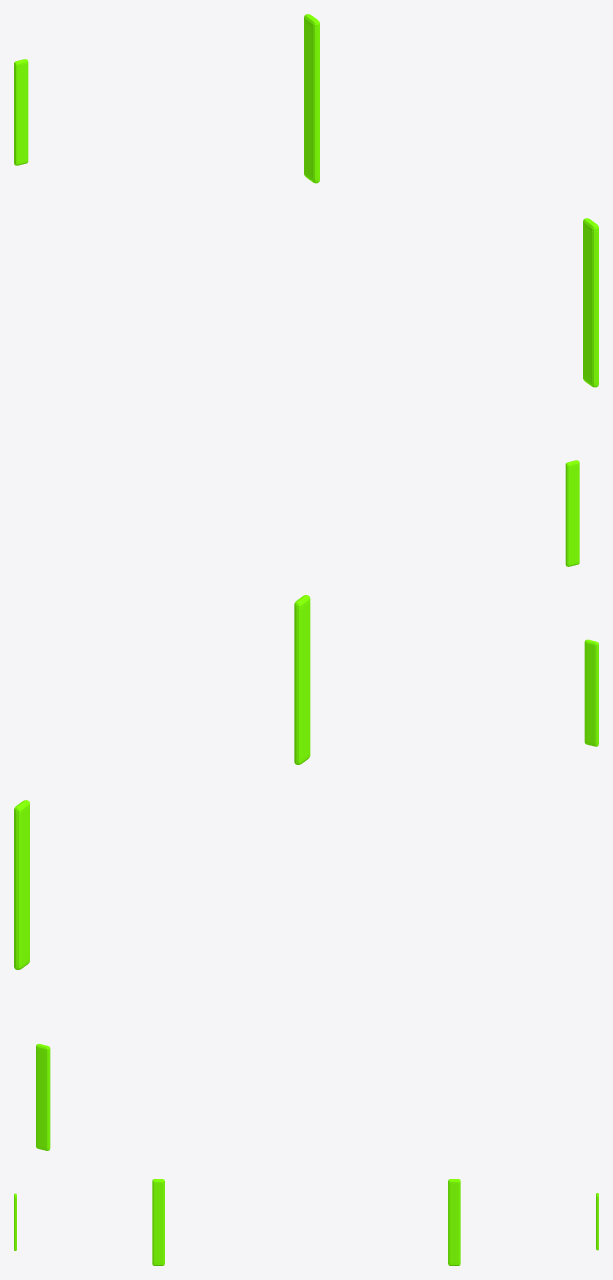
Rendered from progressBarsGreen.glb.
The picture shows the model from 3 angles, top to bottom: view 1: azimuth 30°, elevation 25°; view 2: azimuth 150°, elevation 25°; view 3: azimuth 270°, elevation 25°; orthographic projection. The views are drawn at different scales.
Parts seen in each view (by area): view 1: Plane.114, Plane.115, Plane.116, Plane.117; view 2: Plane.115, Plane.114, Plane.117, Plane.116; view 3: Plane.114, Plane.115, Plane.116, Plane.117.
Boxes of the visible parts, x1,y1,x2,y2 form: Plane.114: (304,14,319,183); Plane.115: (583,218,598,387); Plane.116: (14,59,28,165); Plane.117: (565,460,579,566); Plane.115: (294,595,310,764); Plane.114: (14,800,29,969); Plane.117: (584,639,598,746); Plane.116: (36,1044,50,1150); Plane.114: (448,1179,460,1265); Plane.115: (152,1179,164,1265); Plane.116: (596,1193,598,1250); Plane.117: (14,1193,16,1250).
Bounding box in the file's own units: 3.81 × 4.55 × 21.89.
